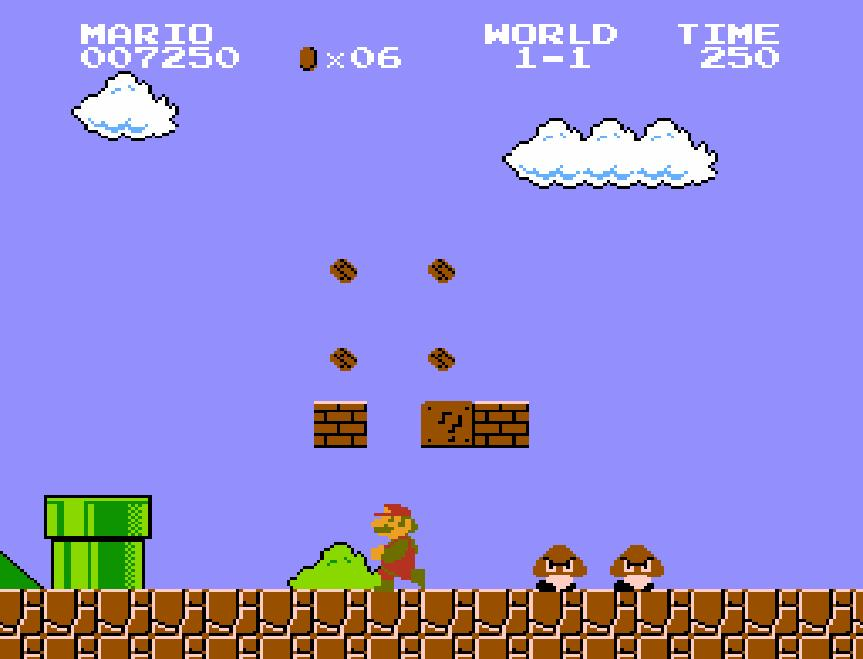big_mario: (368, 496, 426, 594)
